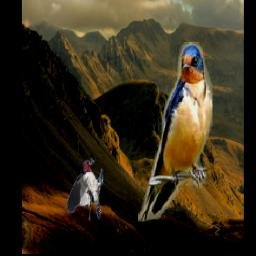Swallow: (138, 43, 213, 223)
Woodpecker: (67, 158, 104, 221)
